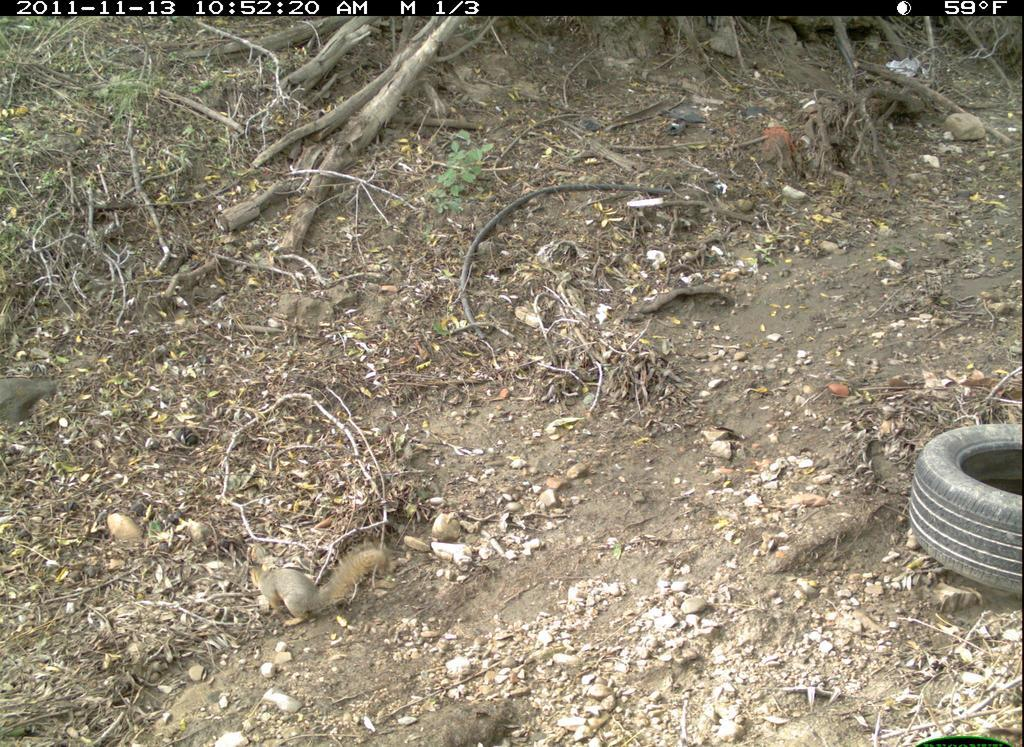squirrel: (246, 546, 381, 623)
